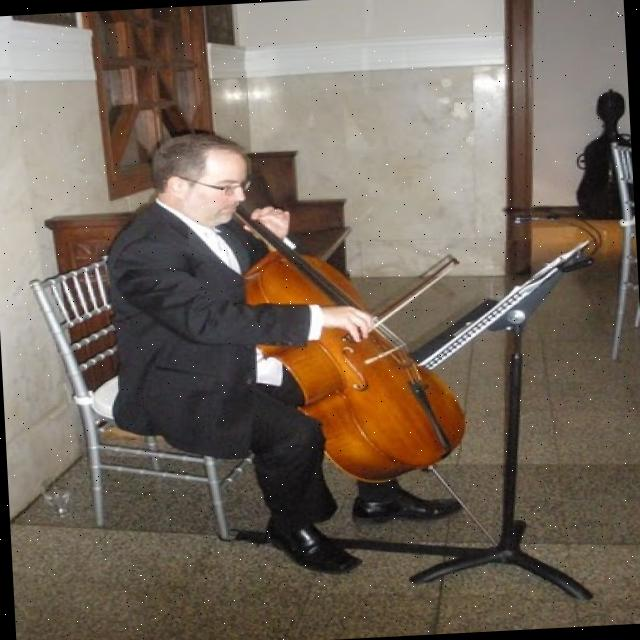cello: (225, 187, 478, 492)
